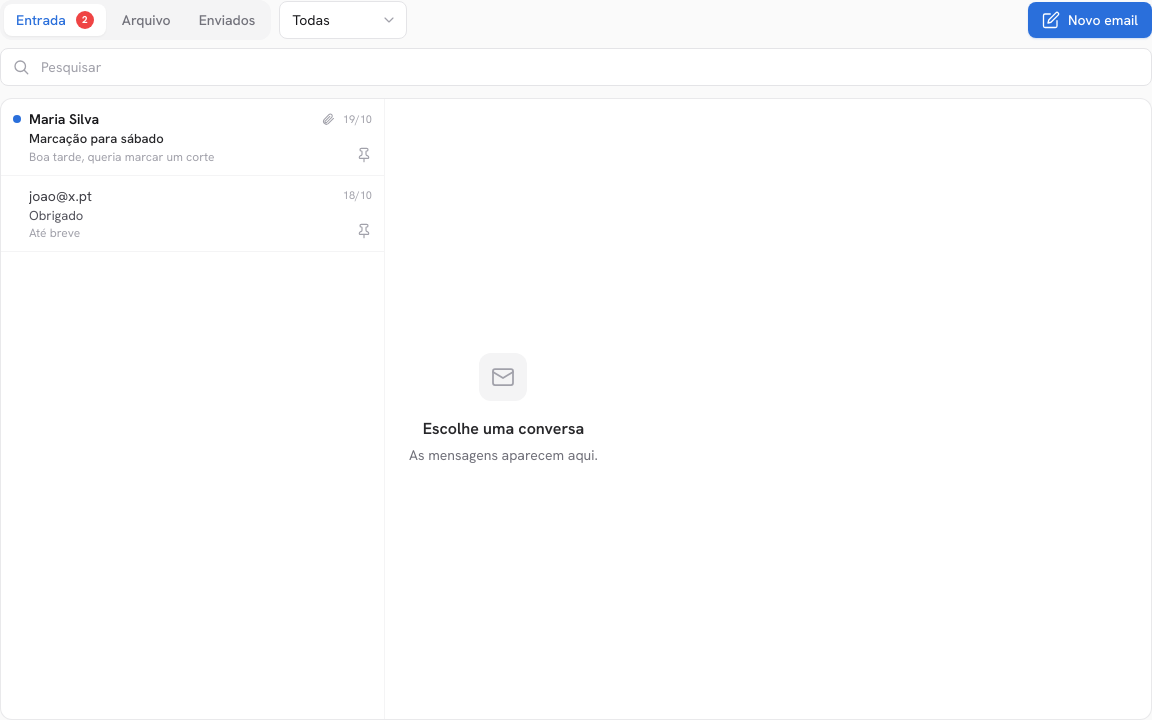
Test case: Correio → Caixa — compositor › mensagem vazia e sem anexos não envia
Click the button "Novo email" at (1090, 20), box [1028,2,1151,38]
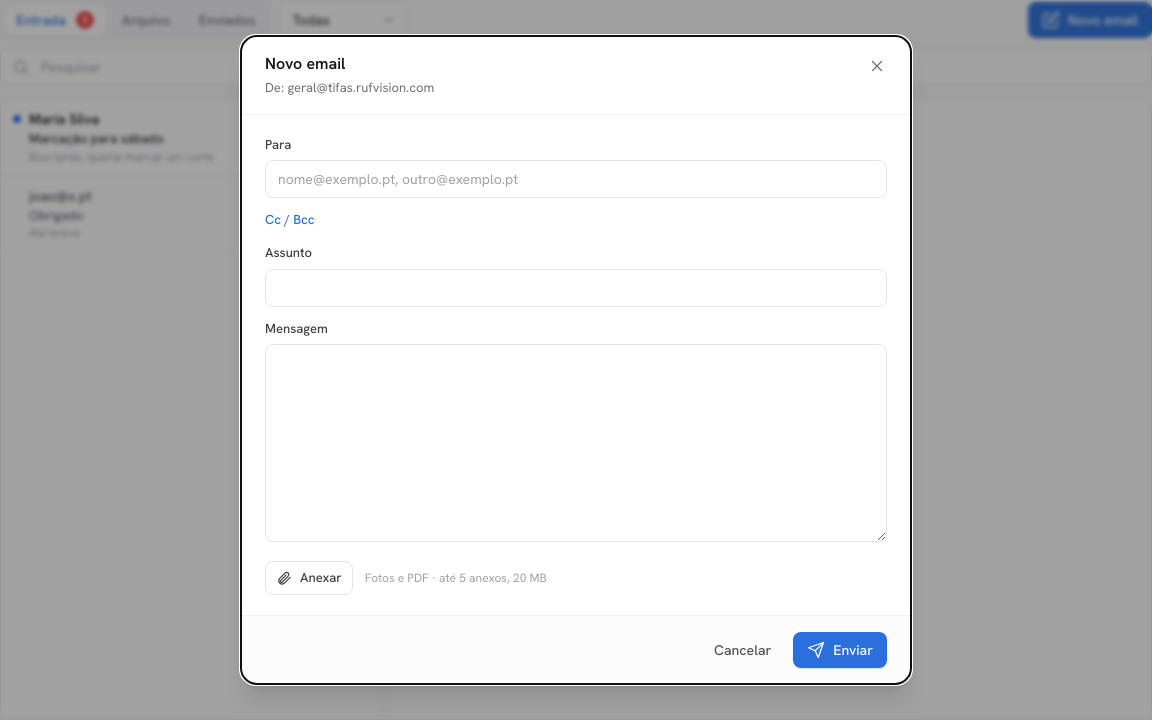
Type "maria@x.pt" into the field labelled "Para" at (576, 179), box [265,160,887,198]
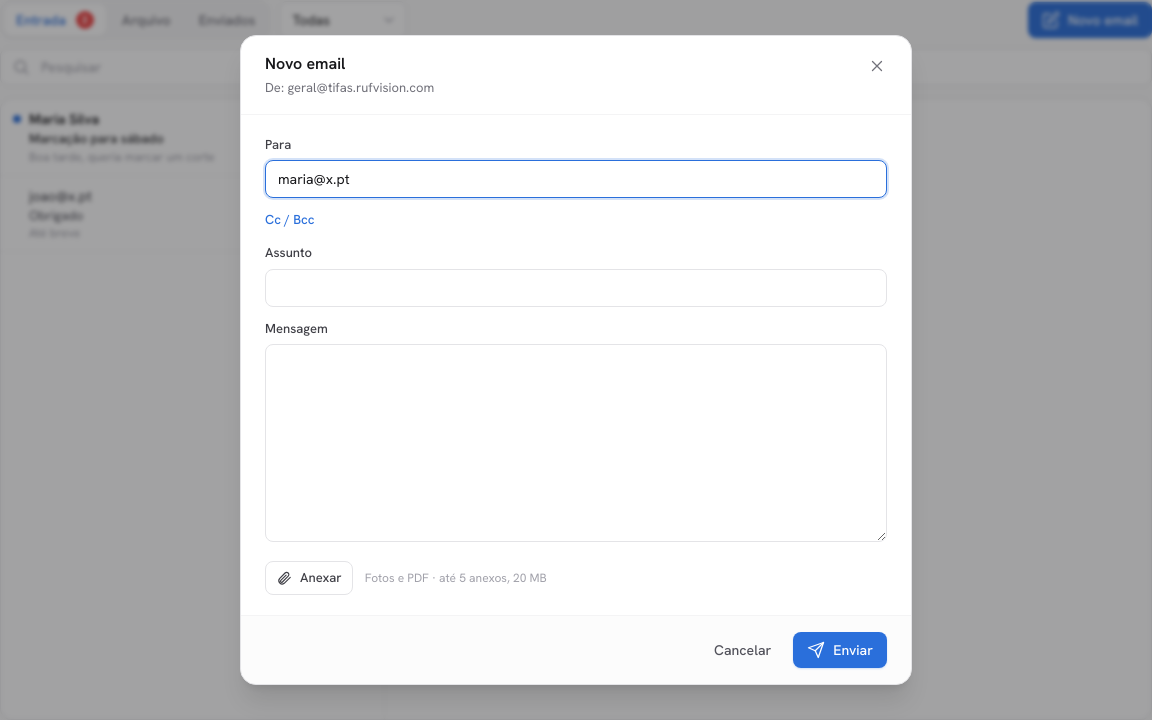
Click the button "Enviar" at (840, 650), box [793,632,887,668]
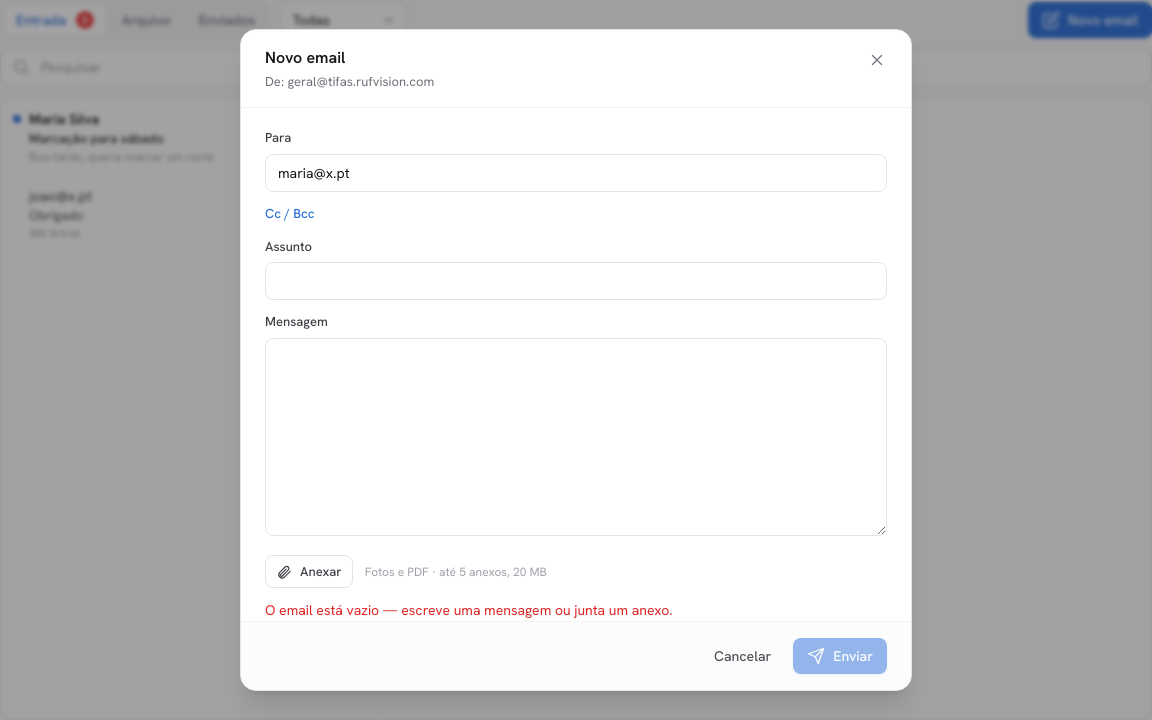
Check: the message shows "vazio", box [265,601,673,619]
